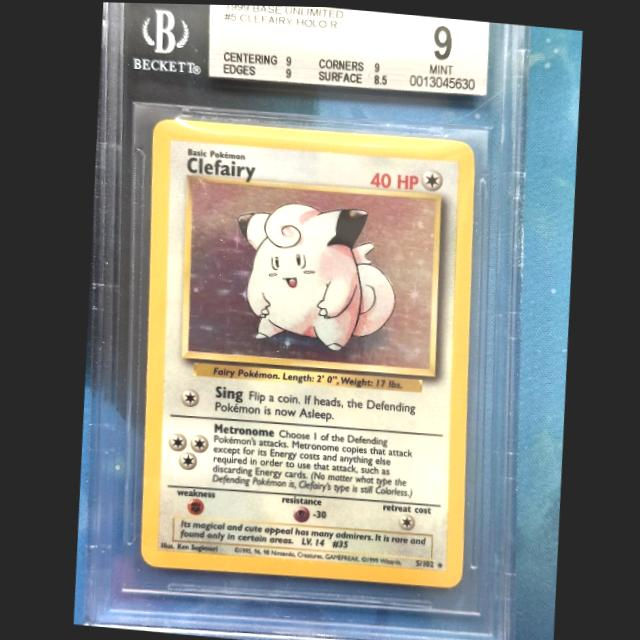bgs_label: (206, 4, 488, 93)
bgs_slab: (77, 2, 528, 640)
card: (136, 116, 474, 586)
